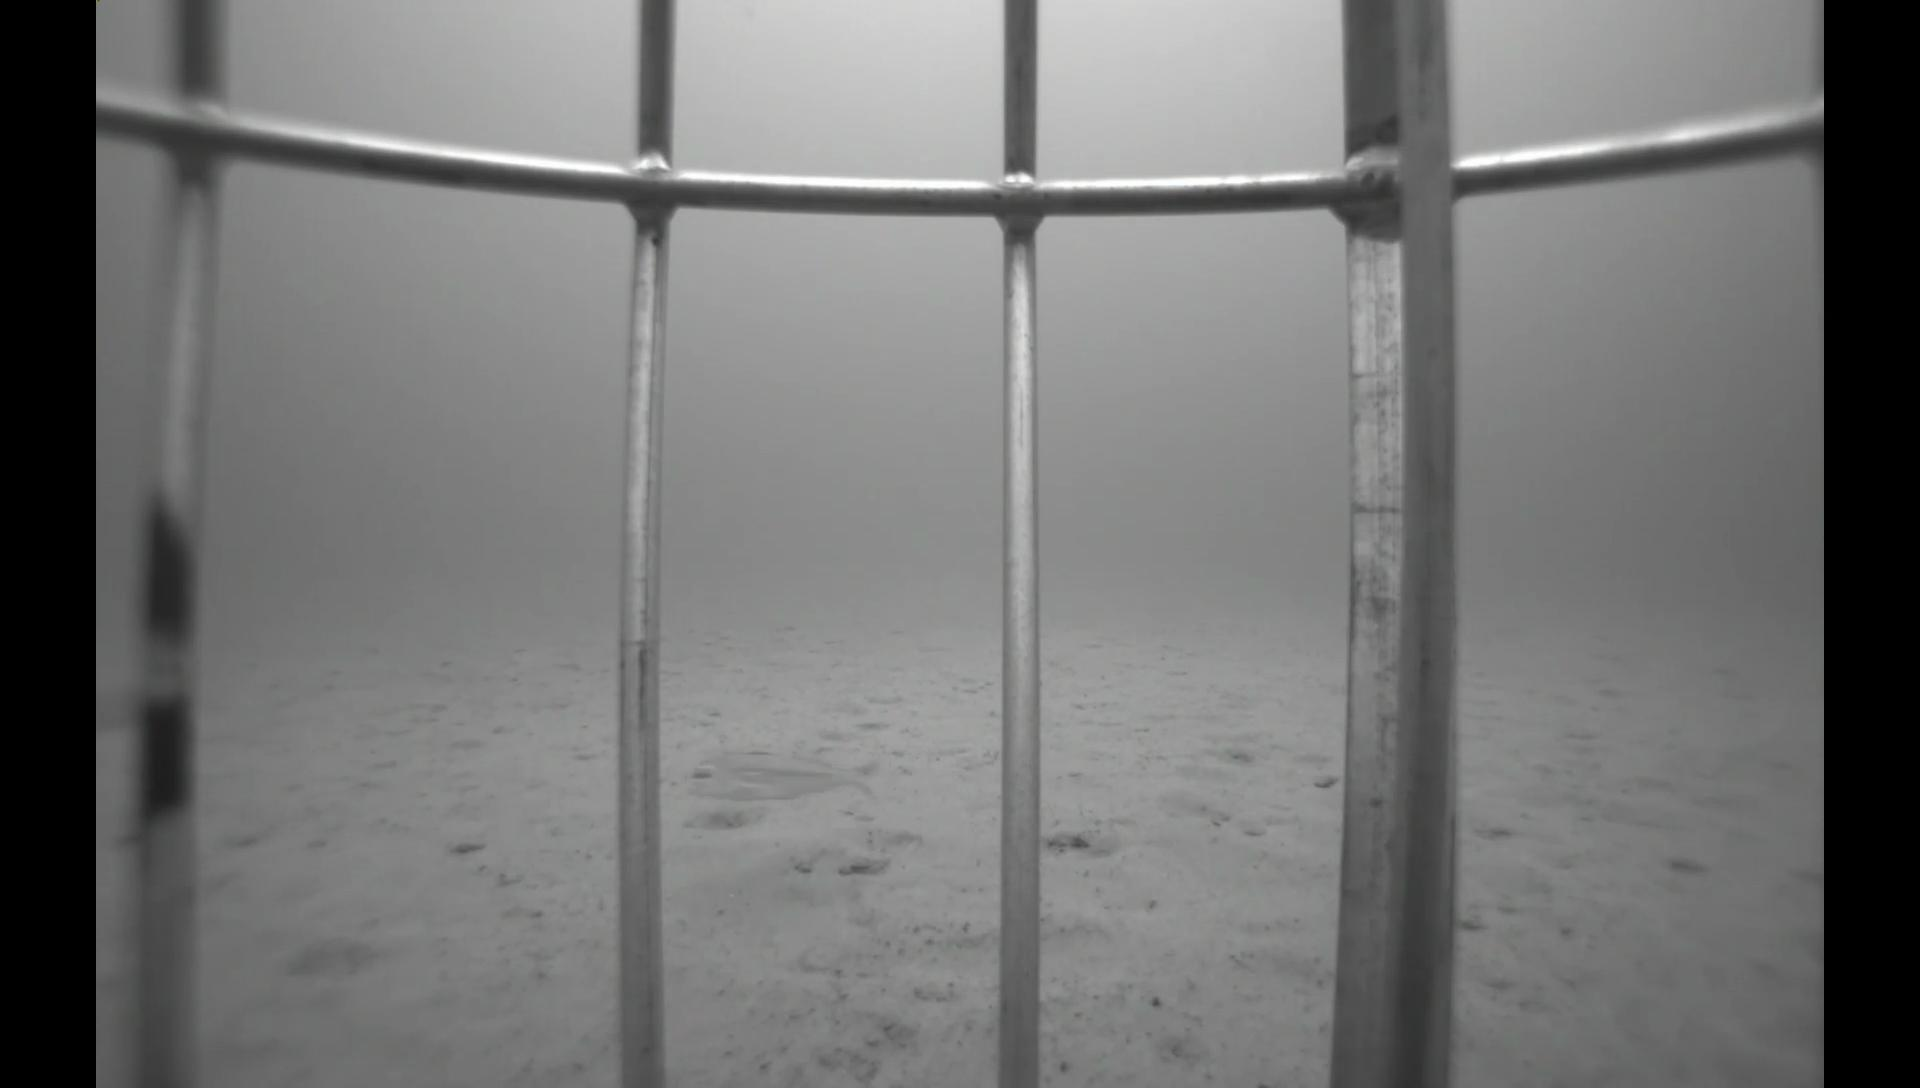CAULOLATILUSCYANOPS-170070101: (667, 737, 889, 818)
